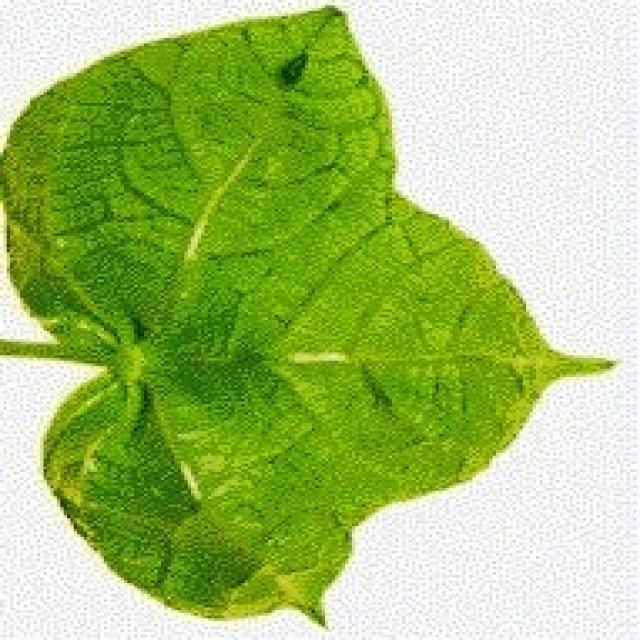Leaf Curl Virus: (77, 102, 385, 468)
